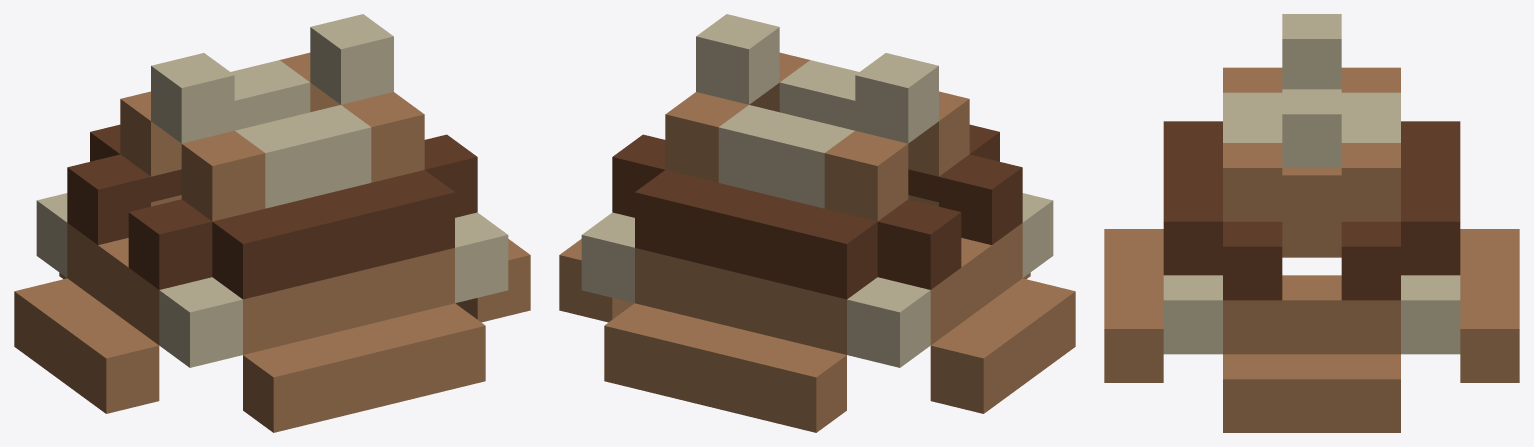
Rendered from cubeland1-5.obj.
3 views of the same model, side by side, from view 1: azimuth 30°, elevation 25°; view 2: azimuth 150°, elevation 25°; view 3: azimuth 270°, elevation 25° (orthographic). The views are drawn at different scales.
Size of the model in its own units: 0.8 by 0.5 by 0.7.
Materials: 1 (1 with a texture image).
